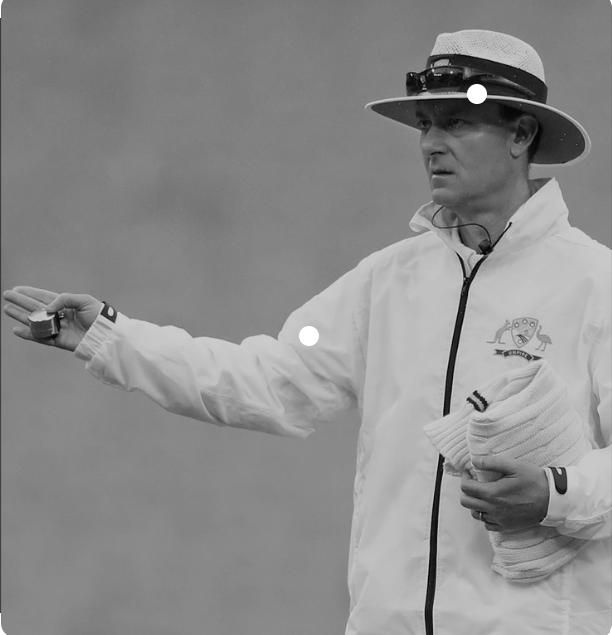umpire_no_ball: (0, 40, 611, 554)
